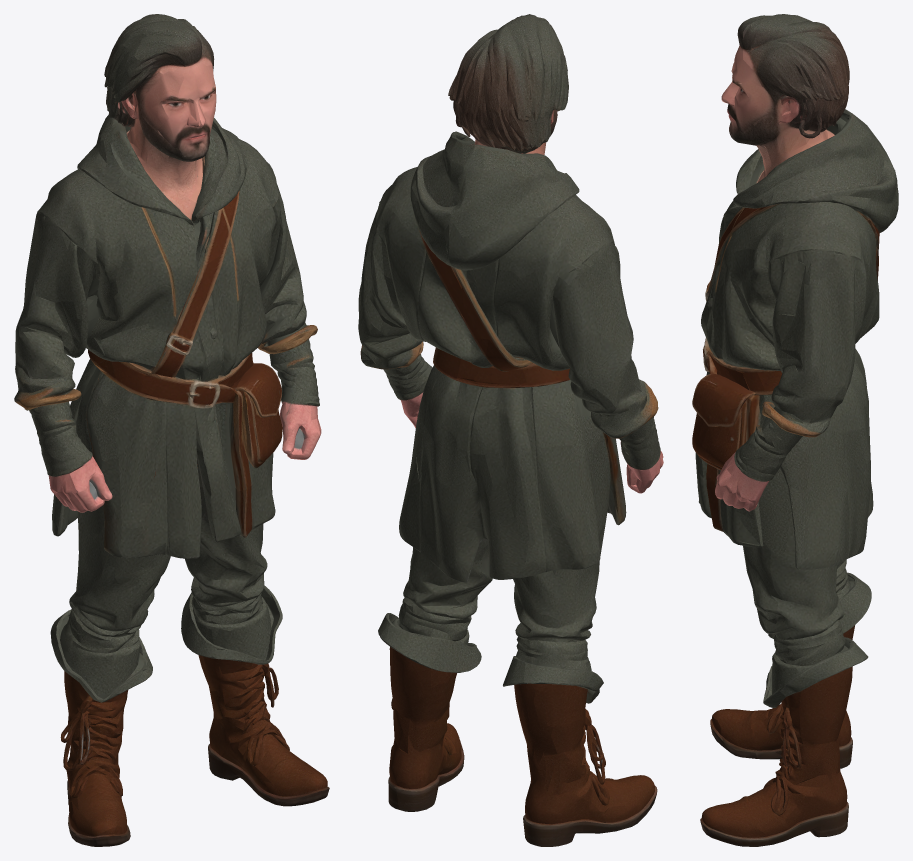
Rendered from wanderer.glb.
3 renders of one model, left to right at view 1: azimuth 30°, elevation 25°; view 2: azimuth 150°, elevation 25°; view 3: azimuth 270°, elevation 25°, orthographic. The views are drawn at different scales.
Bounding box in the file's own units: 0.738 × 1.9 × 0.4641.
1 material, 1 textured.
